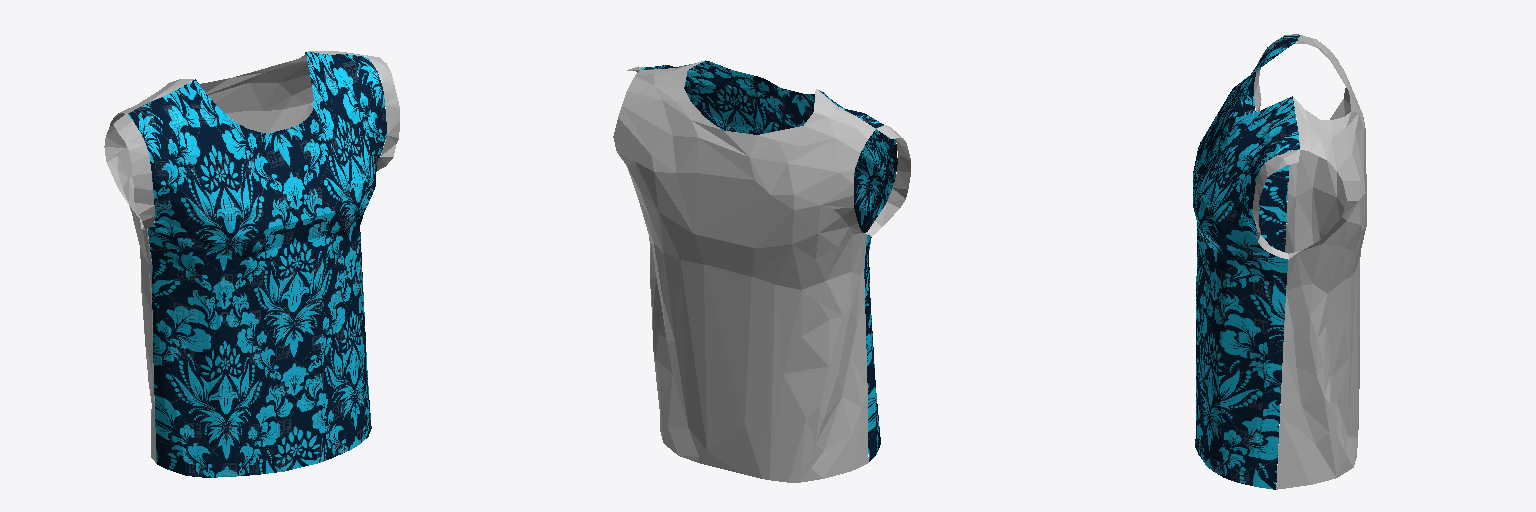
3 renders of one model, left to right at view 1: azimuth 30°, elevation 25°; view 2: azimuth 150°, elevation 25°; view 3: azimuth 270°, elevation 25°, orthographic.
Visible parts, largest first — view 1: T_shirt; view 2: T_shirt; view 3: T_shirt.
Part boxes in pixels (x1,y1,x2,y2): T_shirt: (104, 51, 399, 477); T_shirt: (613, 60, 910, 482); T_shirt: (1193, 34, 1366, 489).
Size of the model in its own units: 0.2935 by 0.3892 by 0.1639.
2 materials, 1 textured.